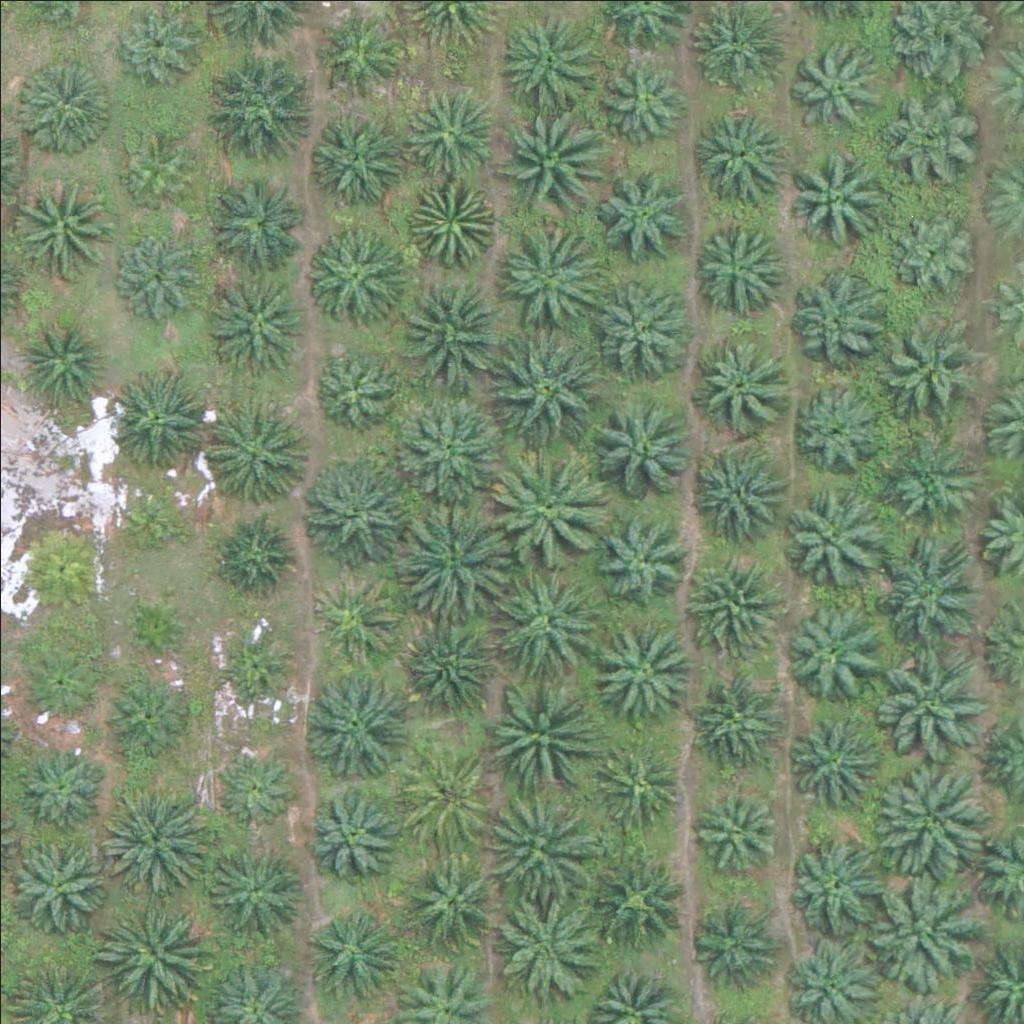Kelapa_Sawit: (493, 561, 606, 675), (484, 789, 597, 903), (488, 215, 601, 328), (489, 331, 602, 444), (100, 783, 213, 896), (99, 895, 212, 1008), (490, 882, 603, 995), (876, 762, 989, 875), (863, 878, 976, 991), (389, 393, 501, 507), (483, 686, 595, 800), (876, 535, 988, 648), (490, 1, 602, 114), (495, 111, 607, 224), (492, 448, 604, 561), (402, 500, 514, 613), (397, 279, 509, 392), (299, 459, 411, 572), (208, 48, 320, 161), (300, 669, 412, 782), (870, 646, 982, 759), (882, 435, 982, 536), (879, 324, 979, 425), (880, 86, 980, 187), (785, 601, 885, 702), (779, 147, 879, 248), (786, 32, 886, 133), (689, 104, 789, 205), (687, 333, 787, 434), (686, 557, 786, 658), (589, 506, 689, 607), (591, 396, 691, 497), (596, 160, 696, 261), (304, 105, 404, 206), (305, 229, 405, 330), (203, 265, 303, 366), (205, 174, 305, 275), (112, 367, 212, 468), (13, 174, 113, 275), (9, 833, 109, 934), (205, 841, 305, 942), (303, 782, 403, 883), (400, 854, 500, 955), (684, 669, 784, 770), (785, 836, 885, 937), (787, 710, 887, 811), (780, 483, 880, 583), (789, 266, 889, 366), (686, 218, 786, 318), (679, 447, 779, 547), (595, 616, 695, 716), (592, 279, 692, 379), (399, 612, 499, 712), (206, 404, 306, 504), (12, 56, 112, 156), (394, 746, 494, 846), (583, 850, 683, 950), (680, 899, 780, 999), (17, 525, 105, 614), (17, 639, 105, 727), (887, 205, 975, 293), (404, 92, 492, 180), (310, 17, 398, 105), (110, 2, 198, 90), (212, 741, 300, 829), (309, 909, 397, 997), (596, 743, 684, 831), (694, 781, 782, 869), (16, 742, 103, 831), (310, 576, 397, 664), (793, 384, 880, 472), (599, 59, 686, 147), (407, 184, 494, 272), (306, 342, 393, 430), (211, 512, 298, 600), (113, 235, 200, 323), (19, 315, 106, 403), (107, 669, 194, 757), (119, 589, 194, 665), (115, 481, 190, 557), (213, 619, 288, 694), (118, 134, 193, 209)
